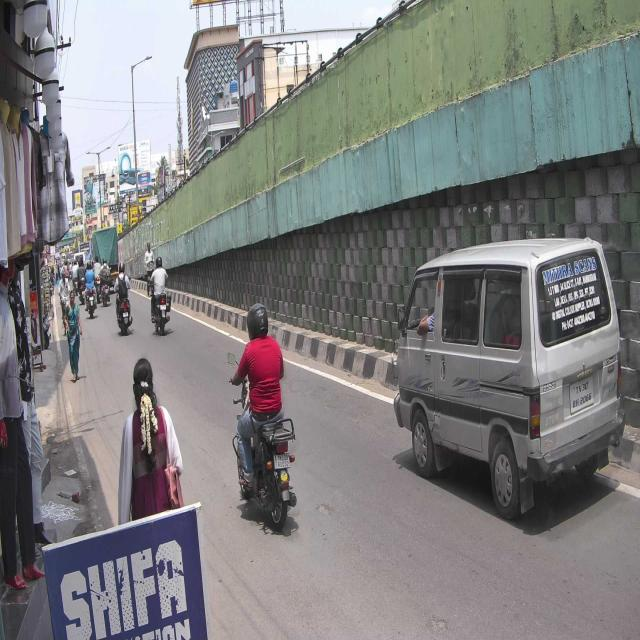single_rider: (228, 301, 299, 531)
